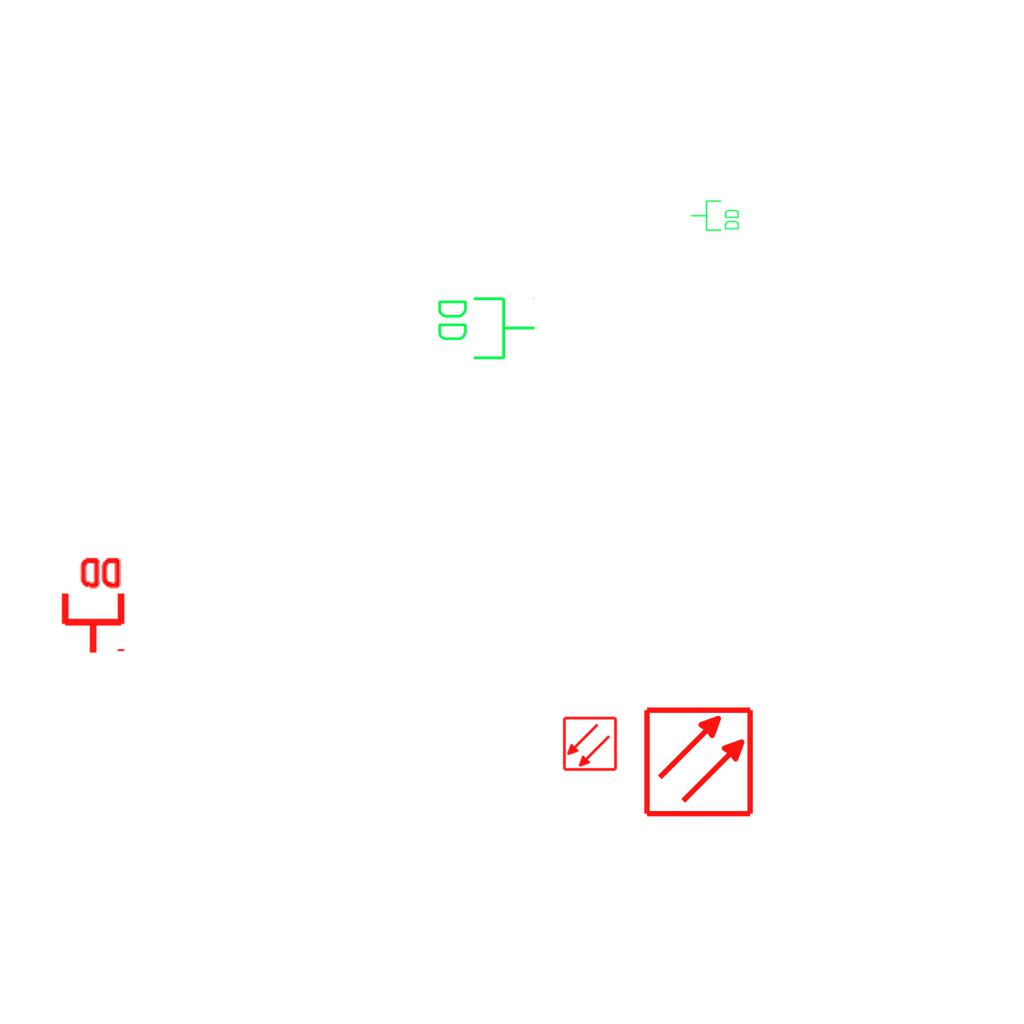Datenanschluss_zweifach: (57, 553, 126, 656), (434, 293, 537, 362), (690, 199, 741, 233)
RMO_Rauchmelder_optischer: (642, 705, 755, 818), (562, 716, 618, 772)
